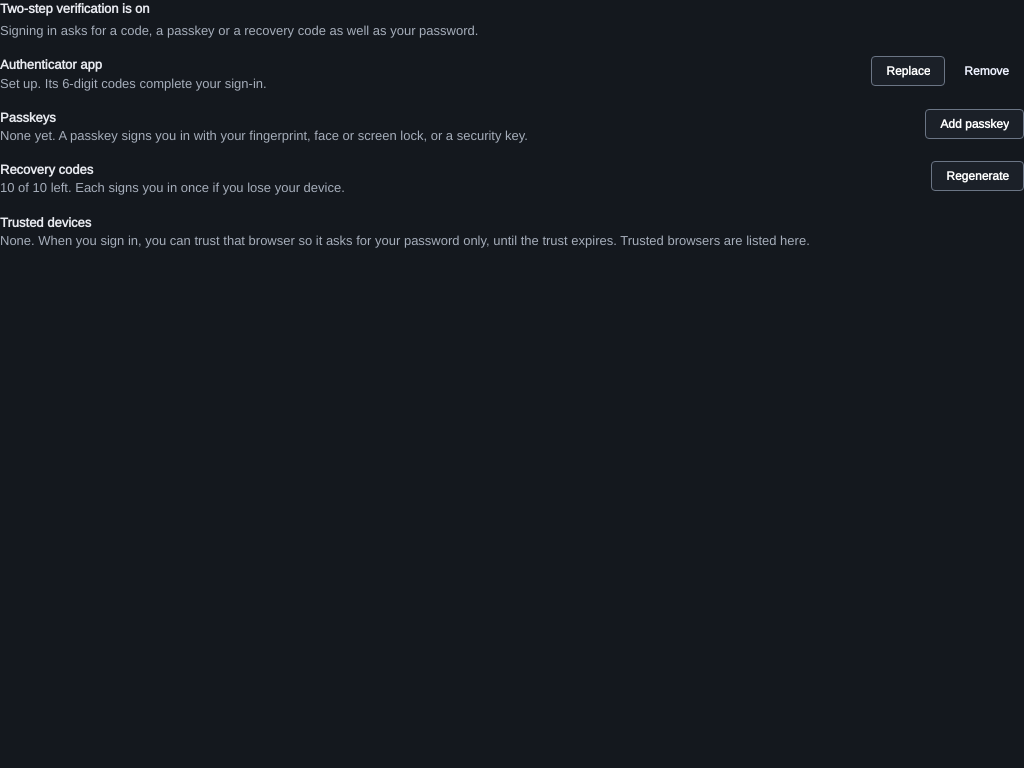
Test: TwoStepSection › surfaces the server message when a removal is refused
The image size is (1024, 768).
Click the button with aria-label "Remove authenticator app".
click(987, 71)  # box [949,56,1023,86]
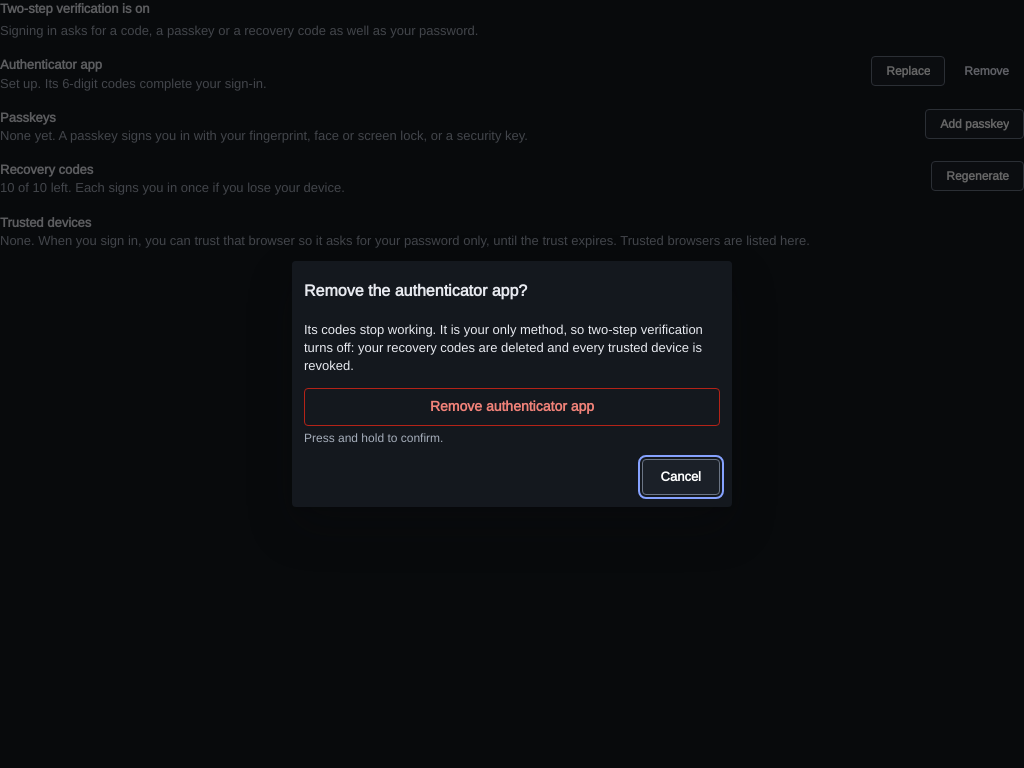
Press the mouse on the button "Remove authenticator app" at (512, 407), box [304,388,720,426]
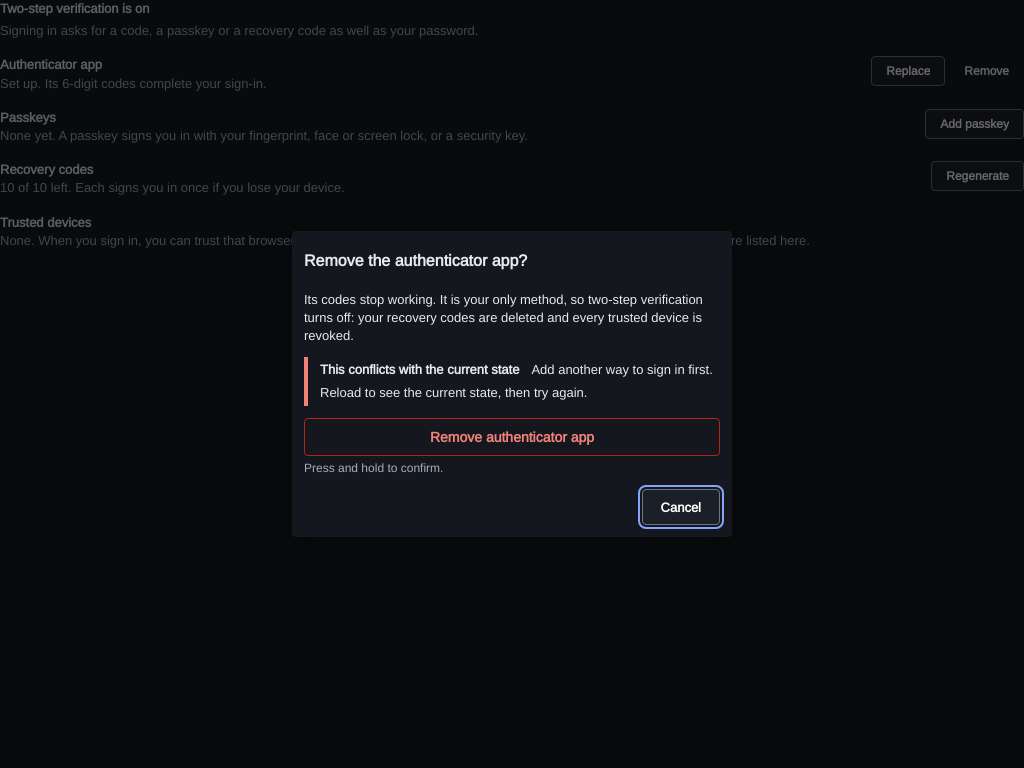
Expected: the message shows "Add another way to sign in first.", [531,361,713,378]
